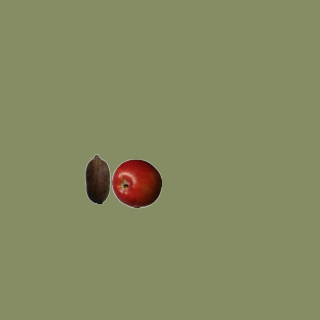Apple Braeburn: (111, 158, 161, 208)
Nut Pecan: (72, 153, 122, 203)
